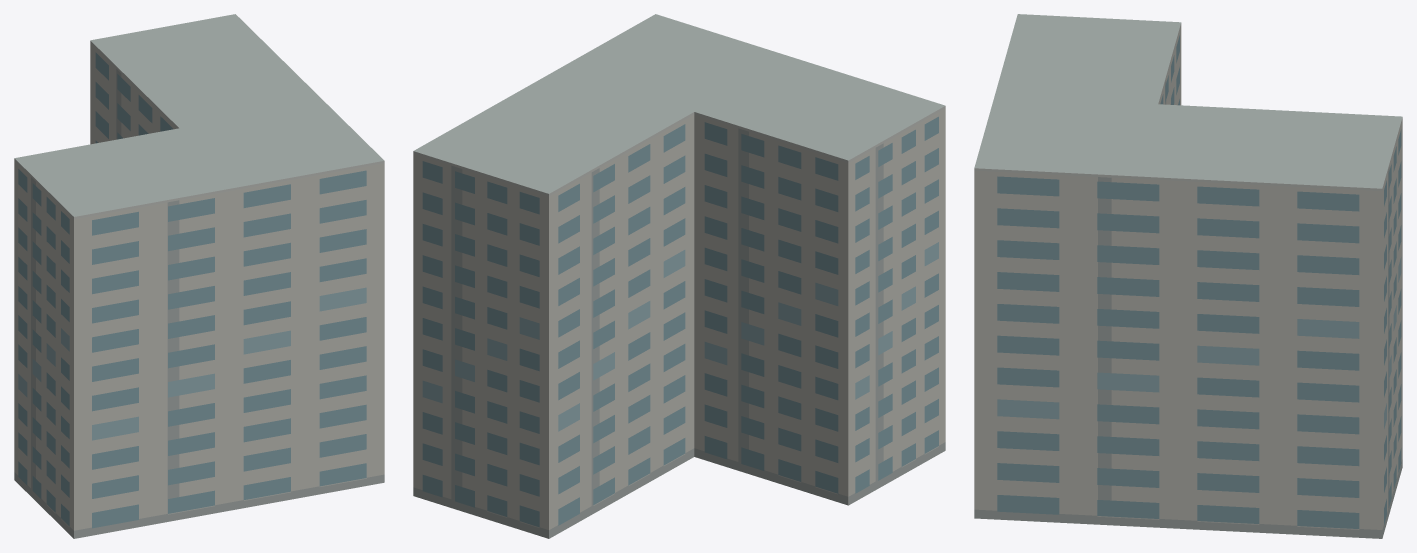
The model's file is residential-3a590e6f-8eba-4337-853d-6e21877fff2b.glb.
3 views of the same model, side by side, from view 1: azimuth 30°, elevation 25°; view 2: azimuth 150°, elevation 25°; view 3: azimuth 270°, elevation 25° (orthographic). The views are drawn at different scales.
Visible parts, largest first — view 1: residential-3a590e6f-8eba-4337-853d-6e21877fff2b.tmp; view 2: residential-3a590e6f-8eba-4337-853d-6e21877fff2b.tmp; view 3: residential-3a590e6f-8eba-4337-853d-6e21877fff2b.tmp.
Boxes of the visible parts, x1,y1,x2,y2 form: residential-3a590e6f-8eba-4337-853d-6e21877fff2b.tmp: (14,14,384,538); residential-3a590e6f-8eba-4337-853d-6e21877fff2b.tmp: (413,14,945,538); residential-3a590e6f-8eba-4337-853d-6e21877fff2b.tmp: (974,14,1402,538).
Bounding box in the file's own units: 35.91 × 33.55 × 37.21.
